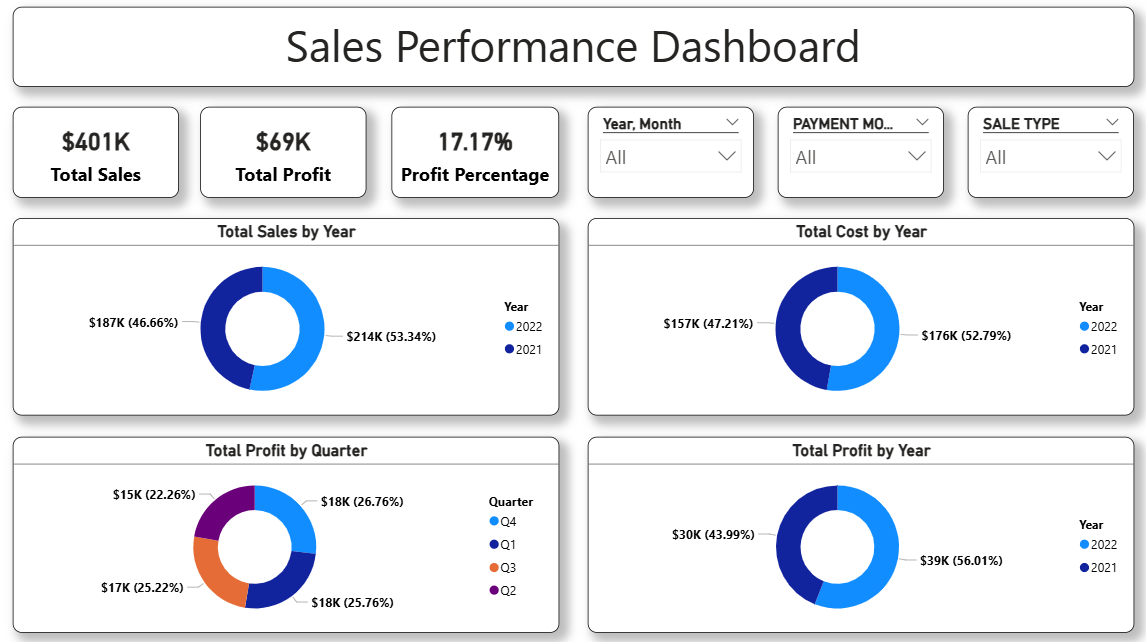

What the dashboard file says about the page in this screenshot:
{"tool":"powerbi","page":{"name":"Overview","canvas":[1280,720],"ordinal":0},"visuals":[{"type":"card","fields":{"Values":["KPI Measures.Total Sales"]},"box":[20.6,124.9,182.5,100.2],"z":0},{"type":"card","fields":{"Values":["KPI Measures.Total Profit"]},"box":[226.4,124.9,182.5,100.2],"z":1000},{"type":"card","fields":{"Values":["KPI Measures.Profit Percentage"]},"box":[436.4,124.9,183.9,100.2],"z":2000},{"type":"slicer","fields":{"Values":["DateTable.Year","DateTable.Month"]},"box":[651.8,124.9,182.5,100.2],"z":3000},{"type":"textbox","box":[20.6,15.1,1230.9,87.8],"z":4000},{"type":"slicer","fields":{"Values":["InputData.SALE TYPE"]},"box":[1069,124.9,182.5,100.2],"z":5000},{"type":"slicer","fields":{"Values":["InputData.PAYMENT MODE"]},"box":[860.4,124.9,182.5,100.2],"z":6000},{"type":"donutChart","fields":{"Y":["KPI Measures.Total Profit"],"Category":["DateTable.Quarter"]},"box":[20.6,487.1,599.7,215.4],"z":7000},{"type":"donutChart","fields":{"Y":["KPI Measures.Total Sales"],"Category":["DateTable.Year"]},"box":[20.6,247,599.7,216.8],"z":8000},{"type":"donutChart","fields":{"Y":["KPI Measures.Total Cost"],"Category":["DateTable.Year"]},"box":[651.8,247,599.7,216.8],"z":9000},{"type":"donutChart","fields":{"Category":["DateTable.Year"],"Y":["KPI Measures.Total Profit"]},"box":[651.8,487.1,599.7,215.4],"z":10000}]}

Visuals, with their boxes in screenshot pixels (x1, y1, x2, y2), scaled from the page's 1280x720 canvas onto the 1146x642 screenshot:
card - KPI Measures.Total Sales: (18, 111, 182, 201)
card - KPI Measures.Total Profit: (203, 111, 366, 201)
card - KPI Measures.Profit Percentage: (391, 111, 555, 201)
slicer - DateTable.Year x DateTable.Month: (584, 111, 747, 201)
textbox: (18, 13, 1120, 92)
slicer - InputData.SALE TYPE: (957, 111, 1120, 201)
slicer - InputData.PAYMENT MODE: (770, 111, 934, 201)
donutChart - KPI Measures.Total Profit x DateTable.Quarter: (18, 434, 555, 626)
donutChart - KPI Measures.Total Sales x DateTable.Year: (18, 220, 555, 414)
donutChart - KPI Measures.Total Cost x DateTable.Year: (584, 220, 1120, 414)
donutChart - DateTable.Year x KPI Measures.Total Profit: (584, 434, 1120, 626)
